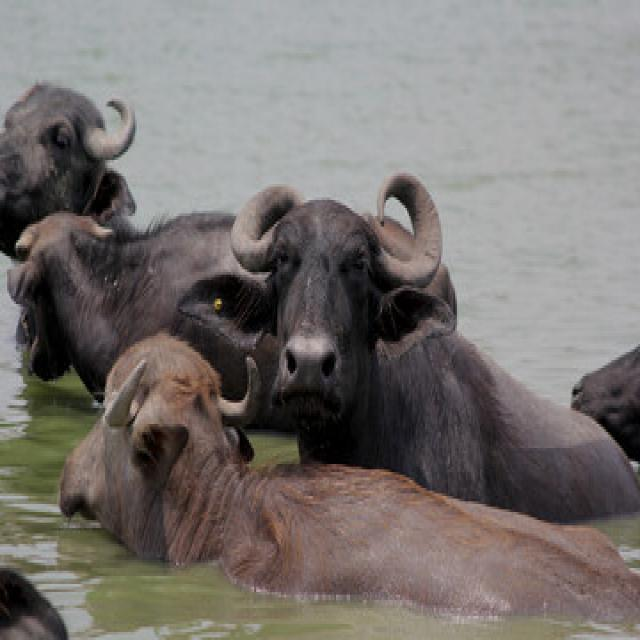Buffalo: (224, 172, 583, 507)
